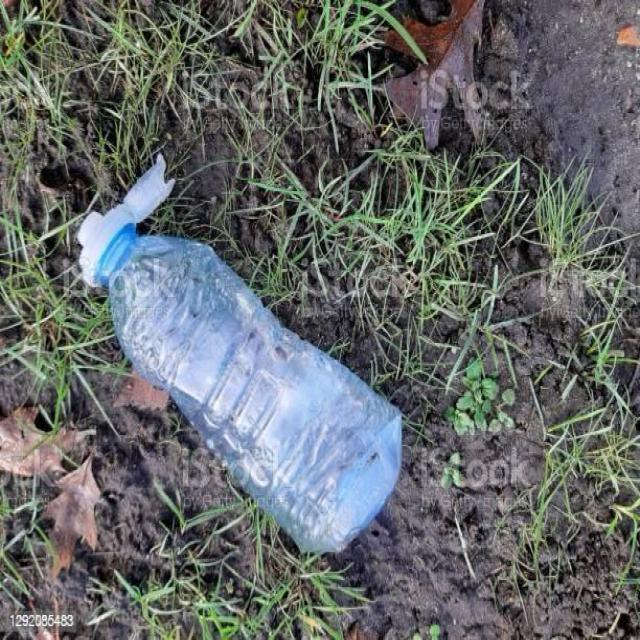bottle: (78, 193, 405, 572)
